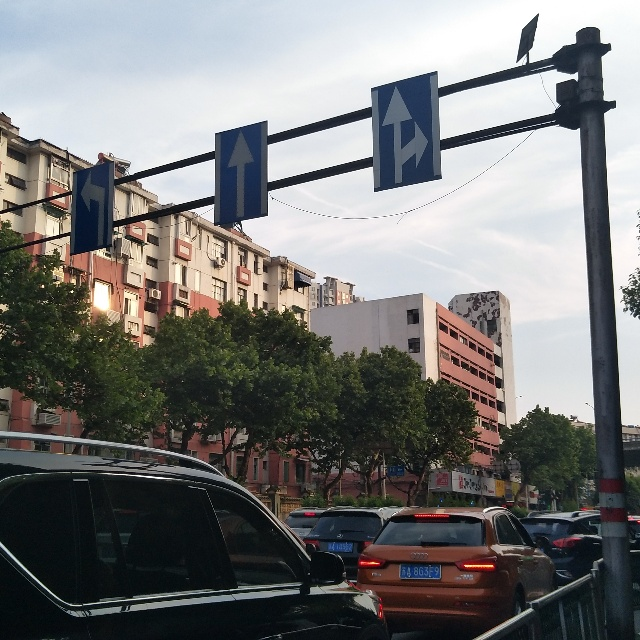left: (69, 170, 111, 246)
straight: (220, 132, 269, 219)
